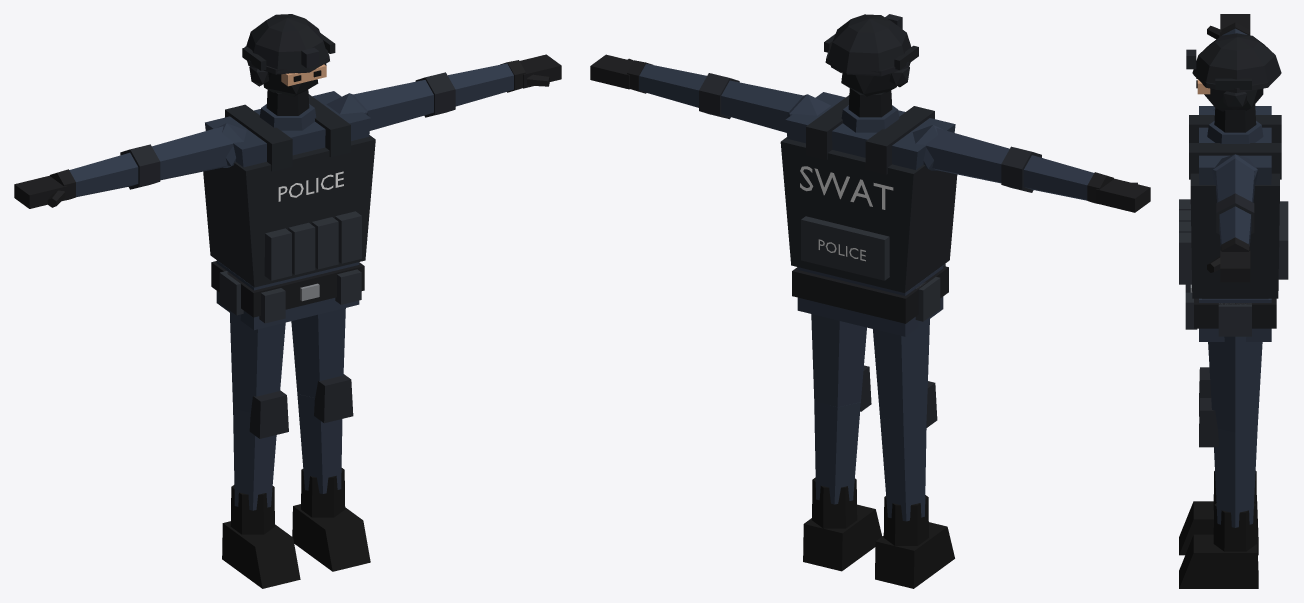
Rendered from swat.glb.
The picture shows the model from 3 angles, left to right: view 1: azimuth 30°, elevation 25°; view 2: azimuth 150°, elevation 25°; view 3: azimuth 270°, elevation 25°; orthographic projection. The views are drawn at different scales.
Visible parts, largest first — view 1: SWAT_Officer; view 2: SWAT_Officer; view 3: SWAT_Officer.
Part boxes in pixels (x1,y1,x2,y2): SWAT_Officer: (14,14,561,588); SWAT_Officer: (590,14,1150,588); SWAT_Officer: (1179,14,1288,588).
Bounding box in the file's own units: 1.82 × 1.75 × 0.335.
